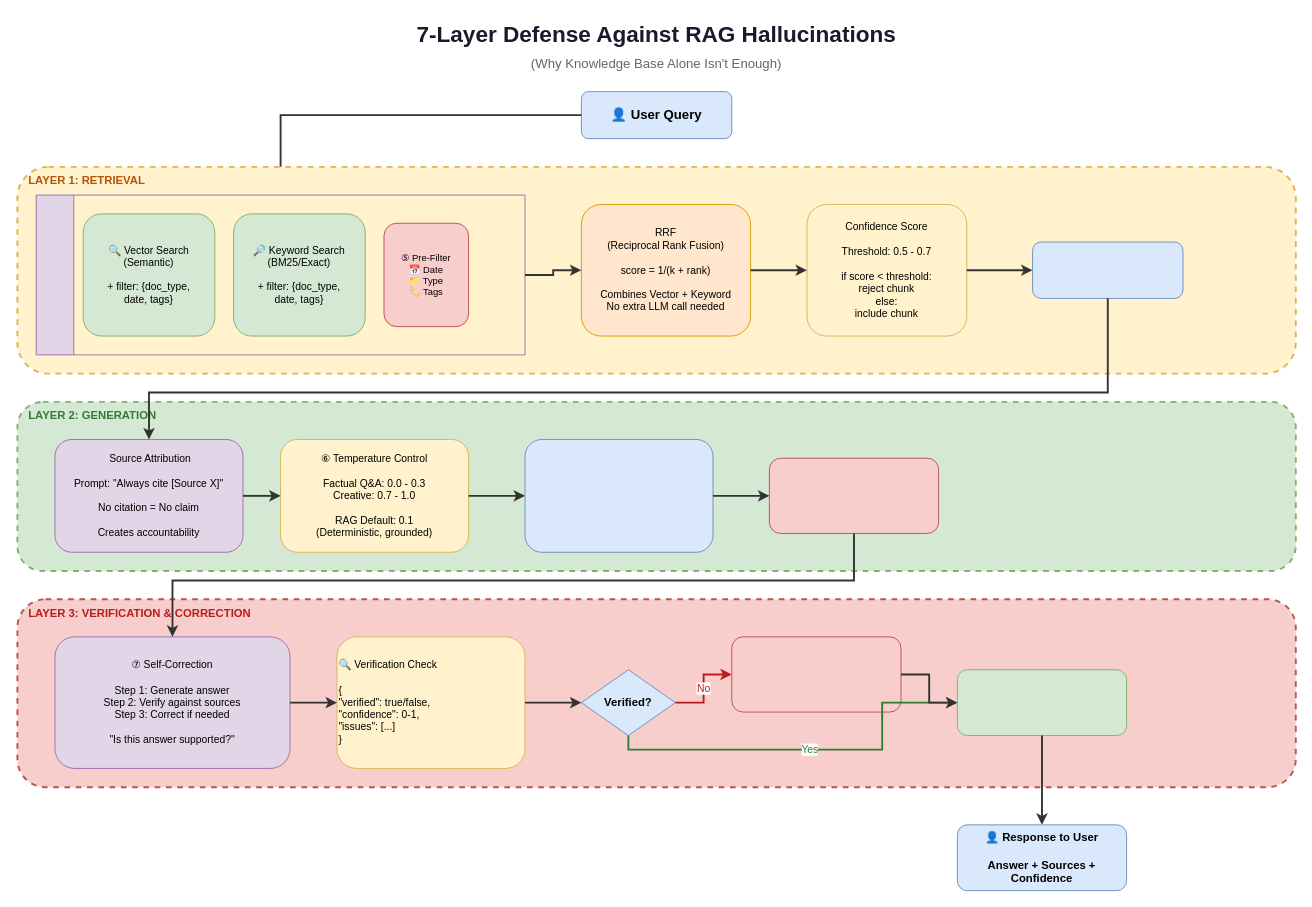
Some shapes in this 1312 by 907 pixel diagram are drawn without their labels. Each missing label, with the box of its shape:
③ Hybrid Search + ⑤ Metadata Filter: (35, 194, 525, 355)
✅ Final Answer (Verified & Grounded): (956, 669, 1127, 736)
📚 Retrieved Chunks (Filtered & Ranked): (1032, 241, 1183, 298)
📝 Initial Answer (May have hallucinations): (768, 457, 939, 533)
🔧 Correct Answer Remove unsupported claims Rewrite using only sources: (731, 636, 901, 712)
🤖 Claude LLM (AWS Bedrock) anthropic.claude-3-haiku or claude-3-sonnet: (524, 439, 713, 552)
